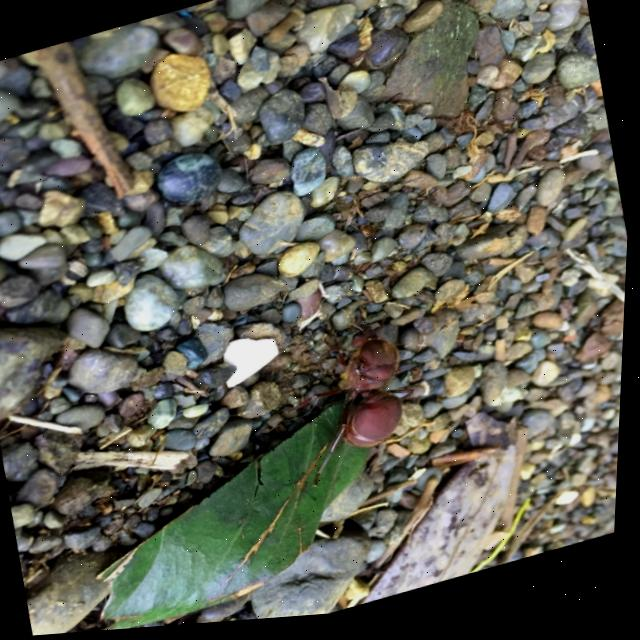Alive-Female-Dealate: (264, 293, 451, 500)
